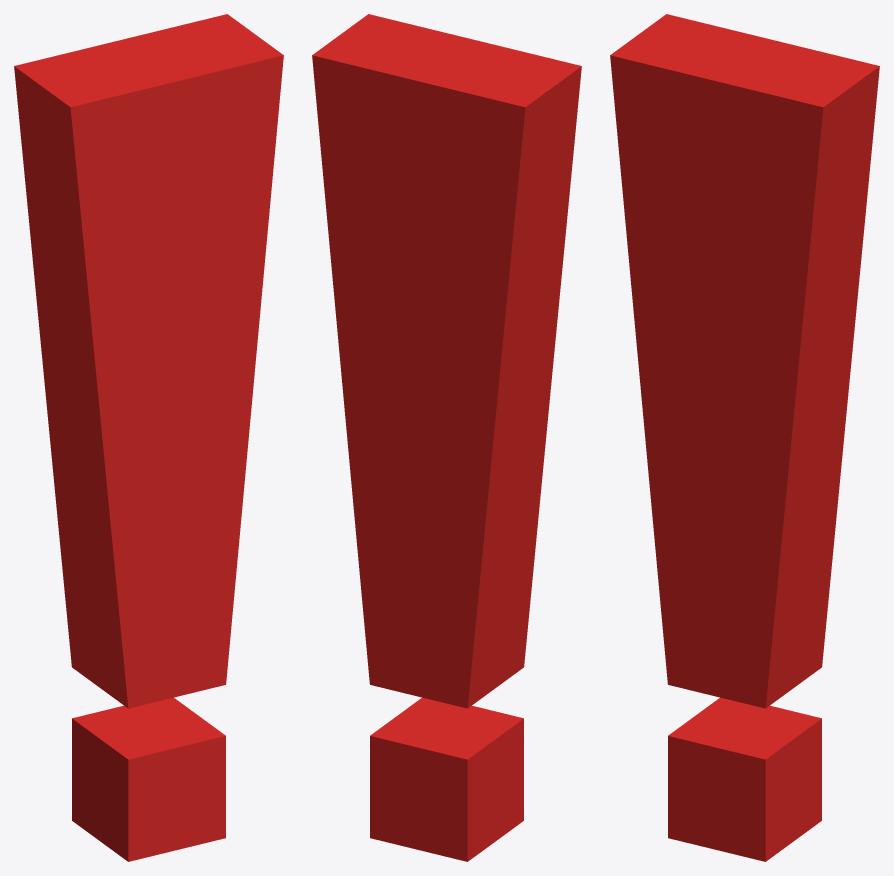
File: punto_esclamativo.fbx
The picture shows the model from 3 angles, left to right: view 1: azimuth 30°, elevation 25°; view 2: azimuth 150°, elevation 25°; view 3: azimuth 330°, elevation 25°; orthographic projection.
Visible parts, largest first — view 1: Cube; view 2: Cube; view 3: Cube.
Boxes of the visible parts, <box> form: Cube: <box>14,14,283,861</box>; Cube: <box>312,14,581,861</box>; Cube: <box>610,14,879,861</box>.
Size of the model in its own units: 437 by 1503 by 200.
